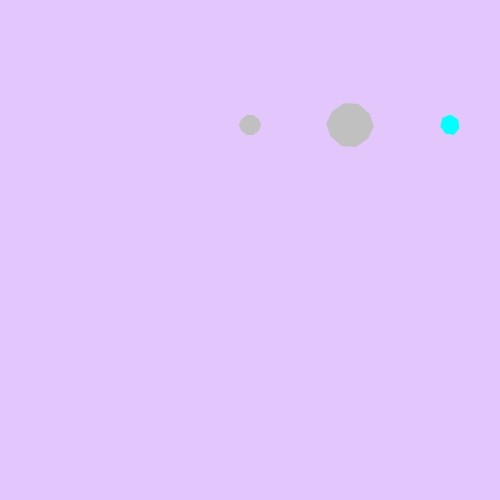decagon: (323, 100, 378, 150), (235, 111, 266, 139)
heptagon: (436, 111, 465, 139)
